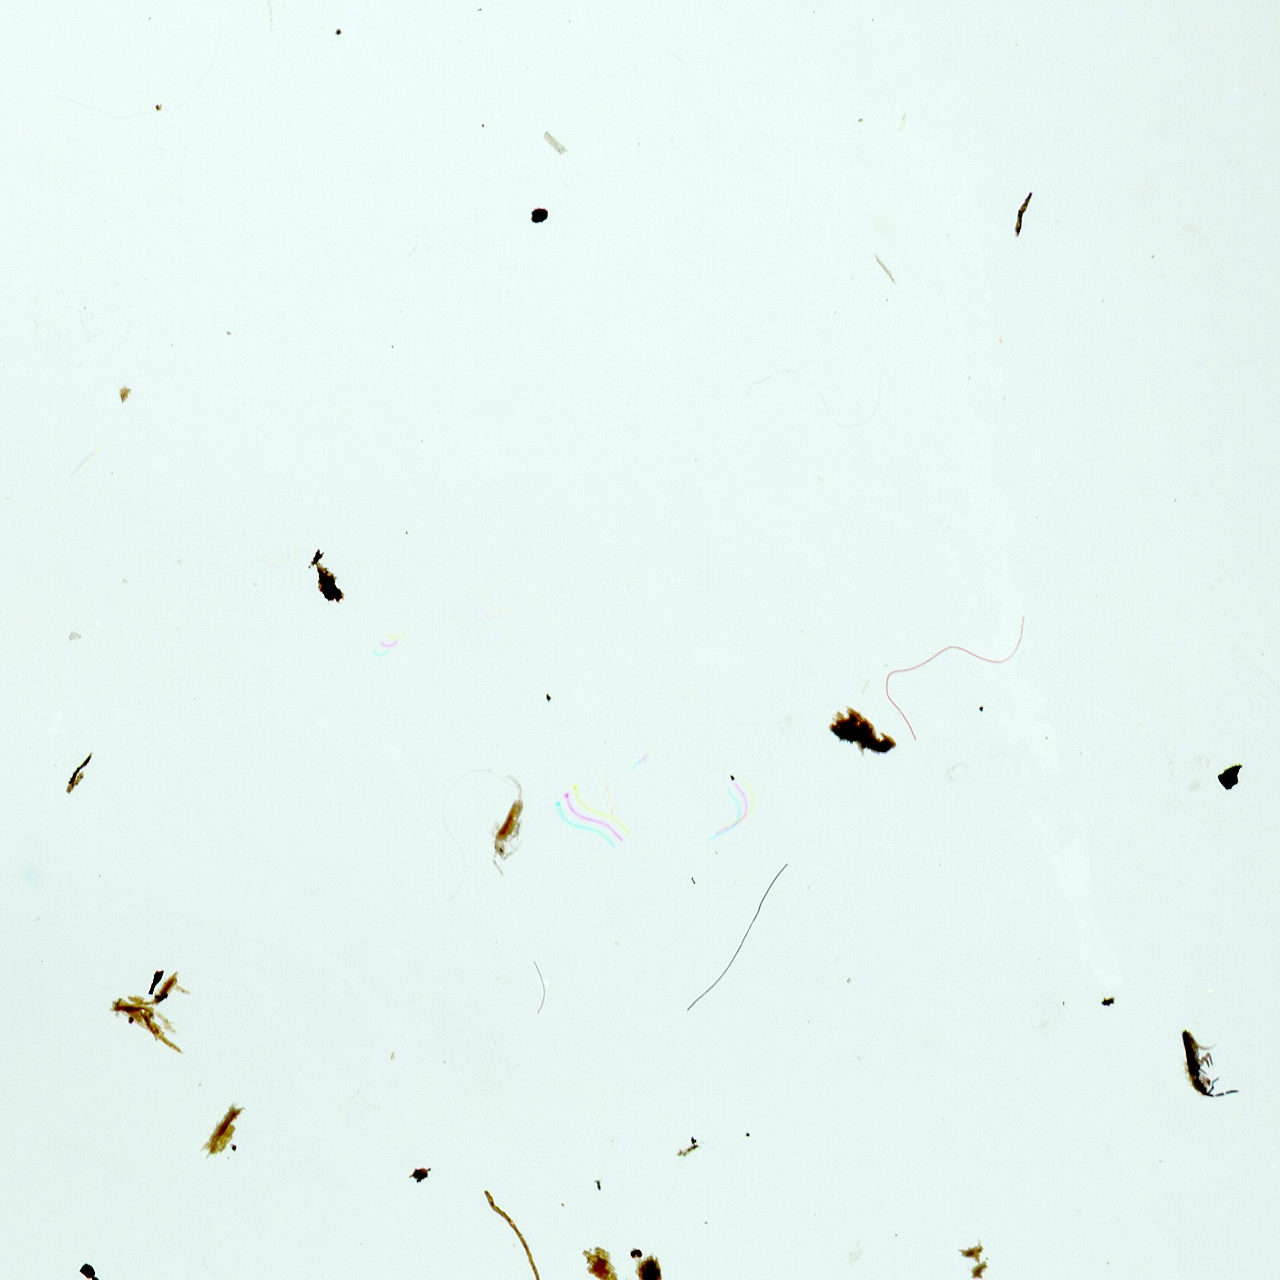arthropod: (472, 767, 544, 890), (1167, 1013, 1247, 1114)
